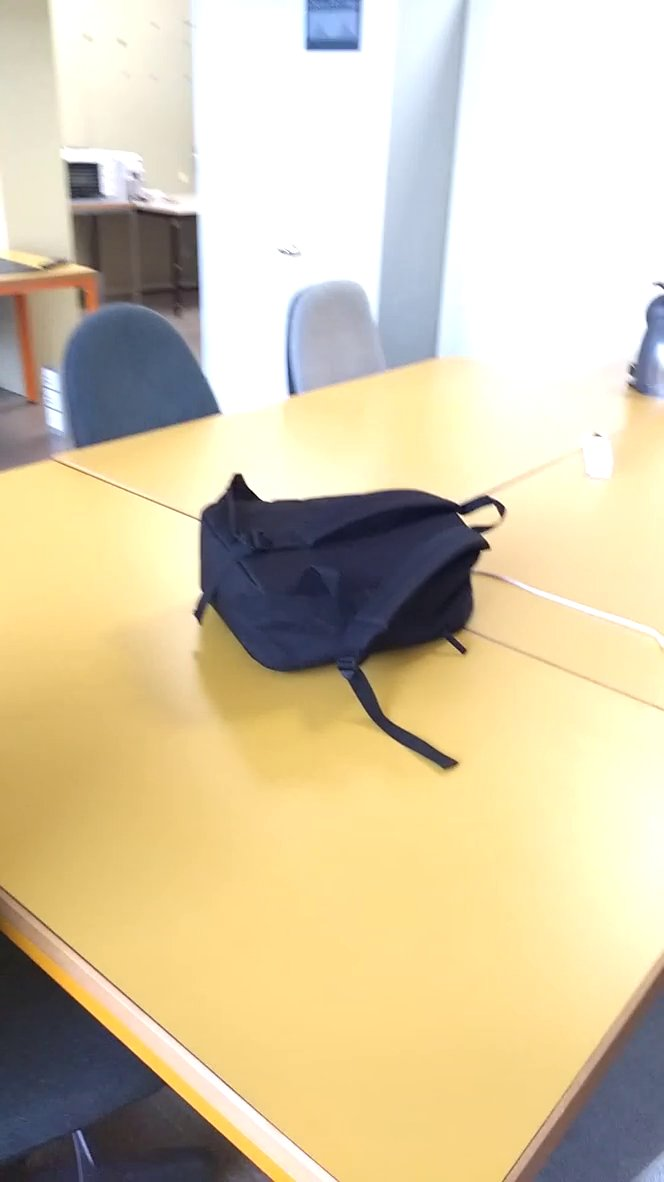bag: (173, 459, 512, 786)
chair: (46, 295, 231, 458), (274, 266, 401, 407)
